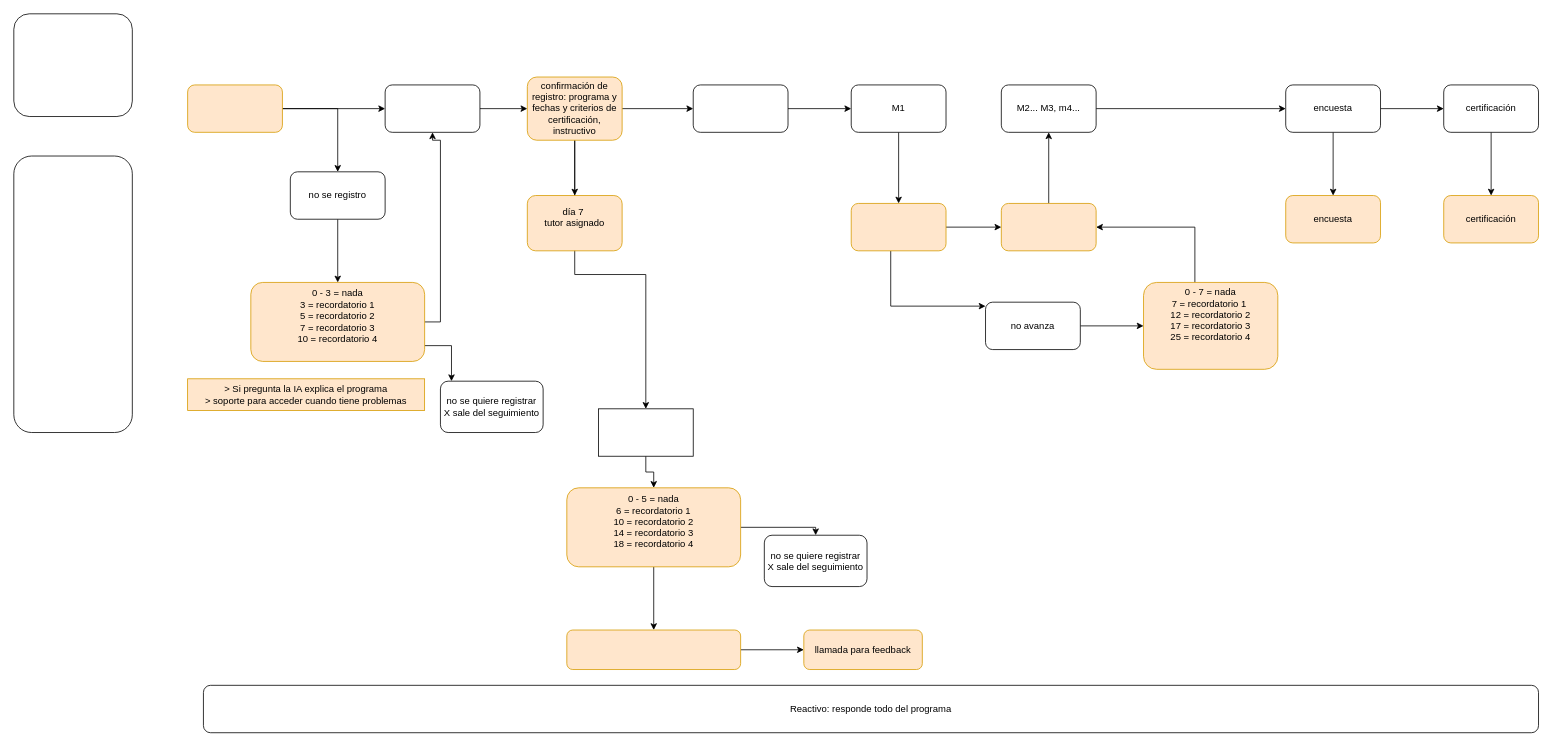
Image size: 1552x747. Some labels were removed from this diagram. Here are the shapes that lost their labels. From the top down, the centre of each, then its label:
At (x=72, y=65): "CAJA CONCIMIENTO: proyecto programa academico misión".
At (x=234, y=108): "invitación a registro".
At (x=432, y=108): "registro".
At (x=740, y=108): "bienvenida".
At (x=898, y=227): "días justif - objetivos, video profesor,".
At (x=1048, y=227): "felicidades e invitación m2".
At (x=72, y=294): "CANALES: email wehatsapp llamada".
At (x=645, y=432): "no incia".
At (x=653, y=649): "tu matrícula se ha suspendido si quieres iniciar en una nueva cohorte ---".
